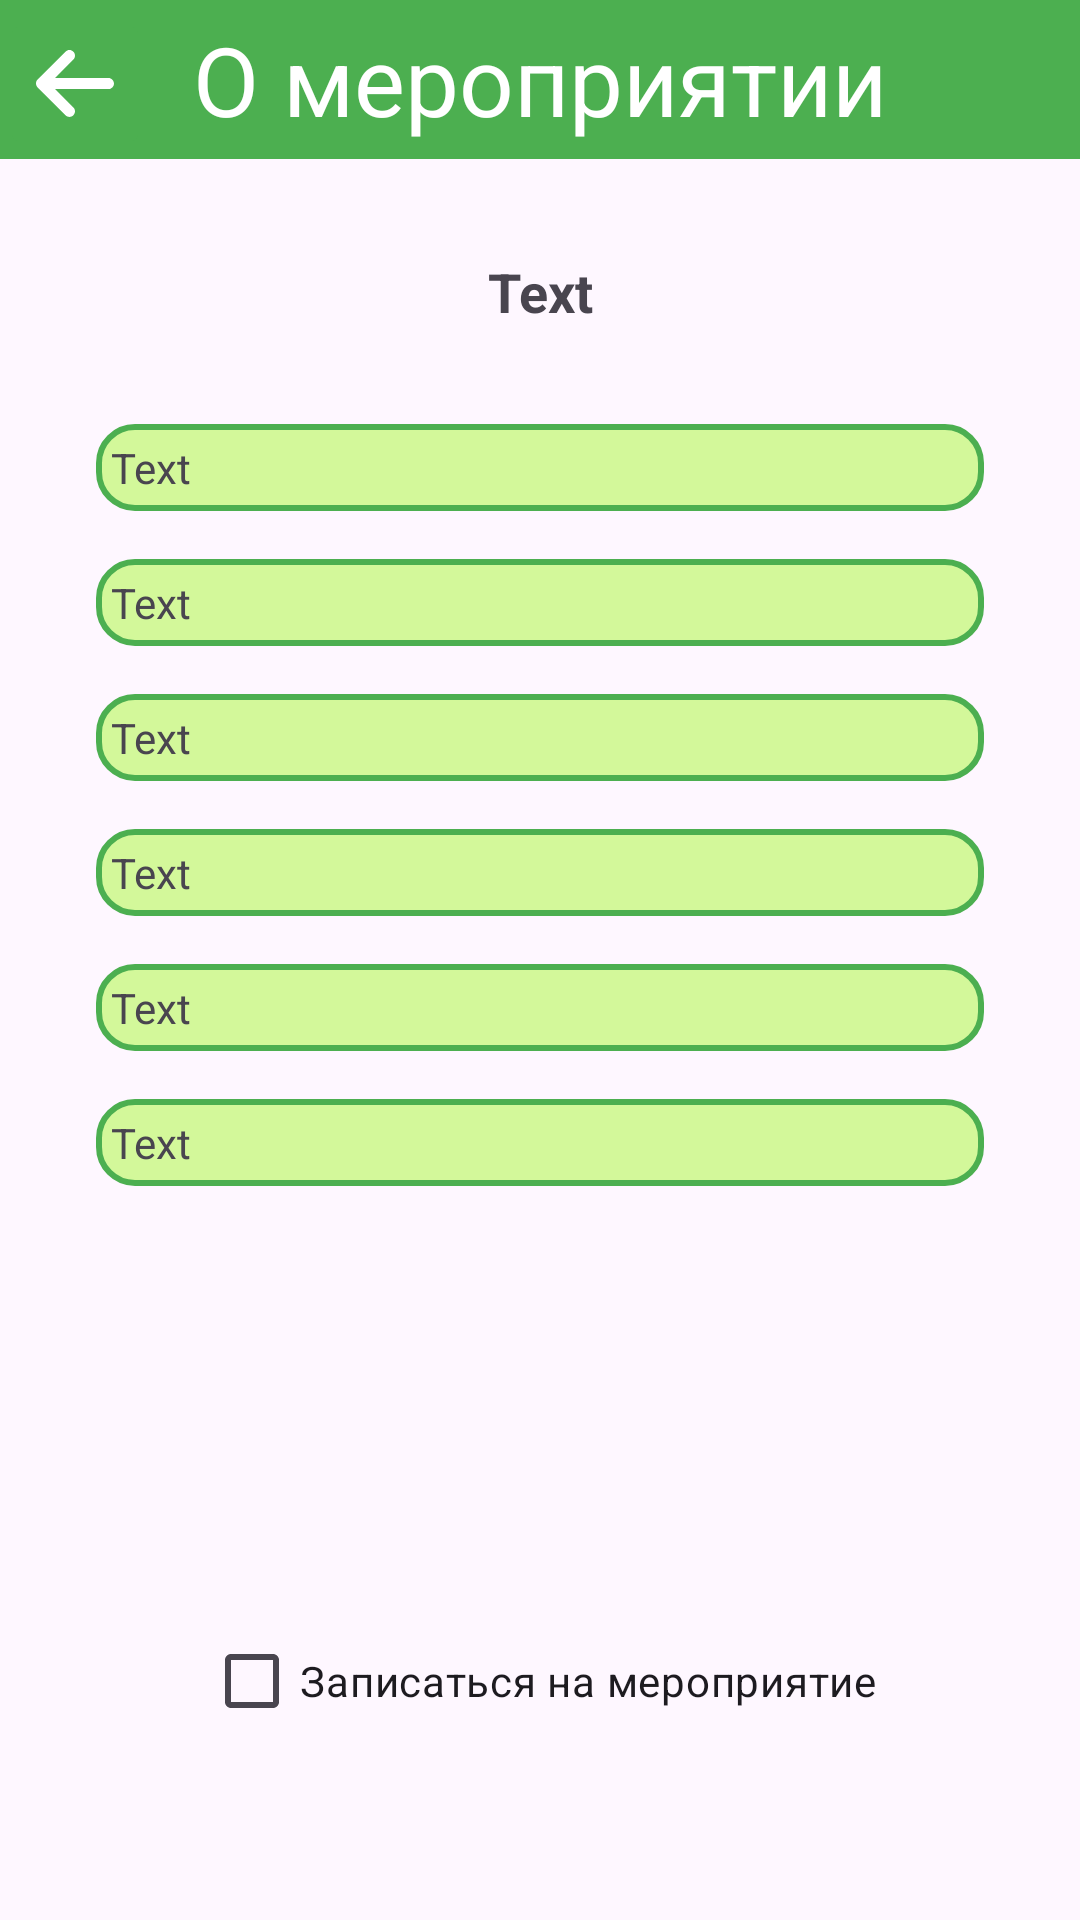

Icon bounding boxes for this 1080px×1920px phone screenshot, format (x1, y1, x2, y2):
arrow left: (36, 50, 114, 117)
